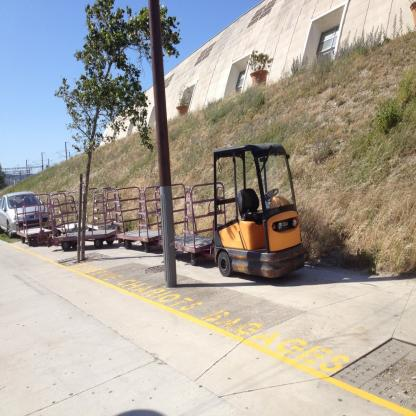Car: (1, 189, 50, 239)
